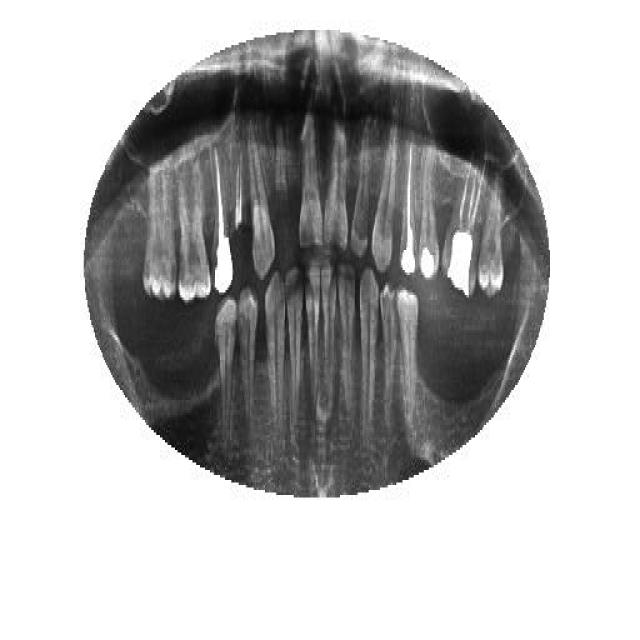Cavity: (272, 120, 288, 220), (230, 152, 246, 242)
Fillings: (419, 155, 440, 280)
Implant: (441, 150, 491, 298), (208, 140, 234, 292), (399, 135, 419, 275)
